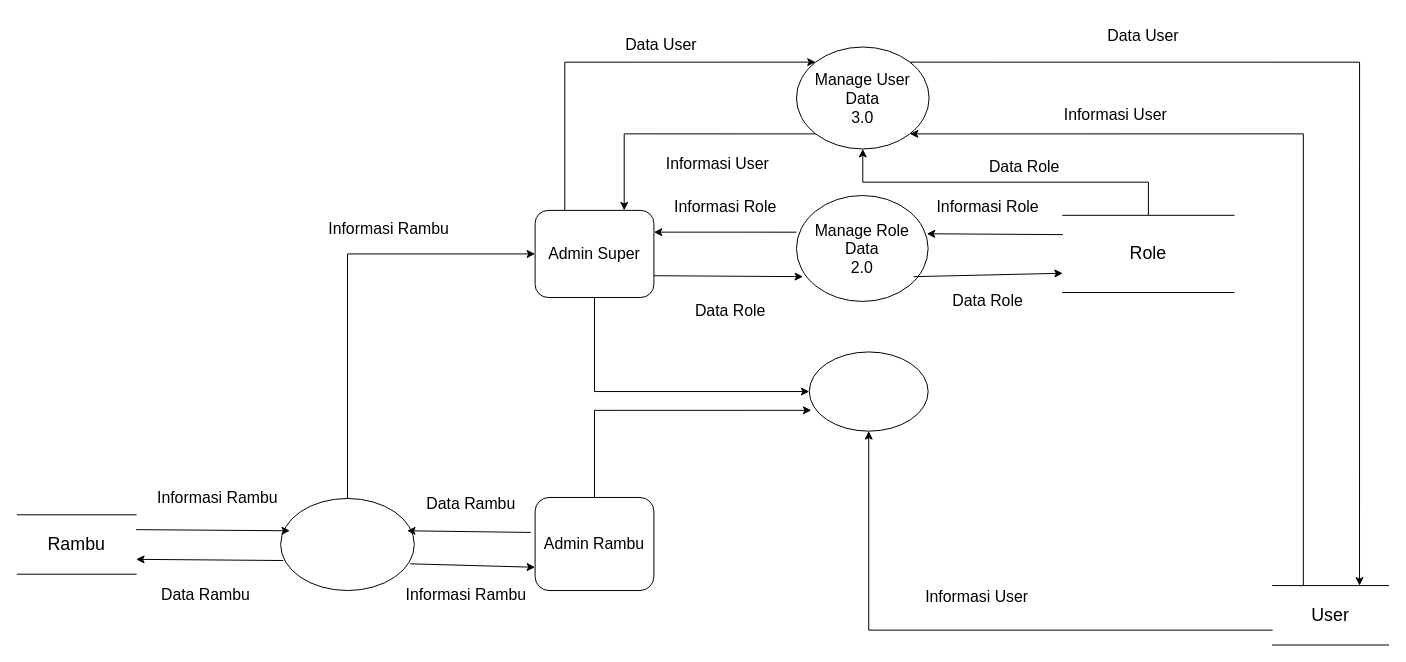
The diagram is 1406 pixels wide and 662 high, and some of its shapes have lost their labels. Here are the shapes that lost their labels. From the top down, the centre of each, then its label:
At pixel 868 391: "Login 1.0".
At pixel 347 544: "Manage Rambu Data 4.0".
